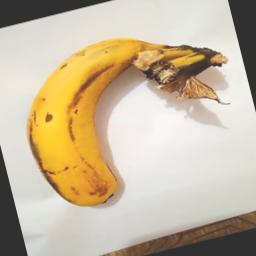Banana Unripe: (2, 10, 252, 222)
